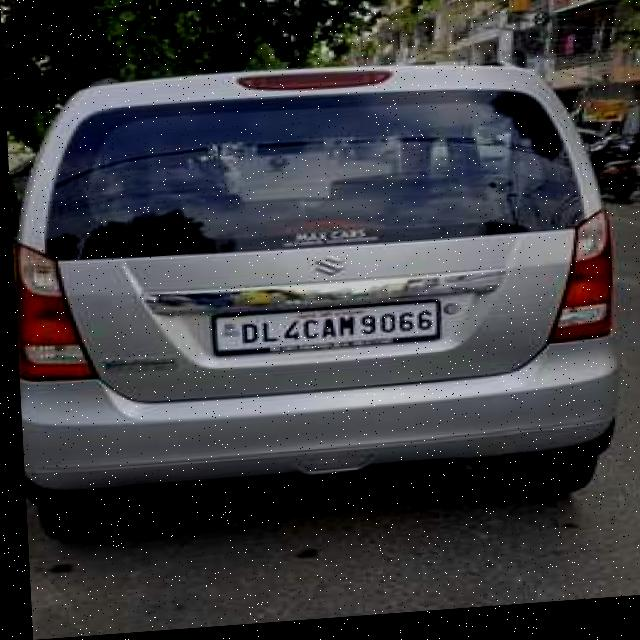plate: (205, 302, 438, 360)
